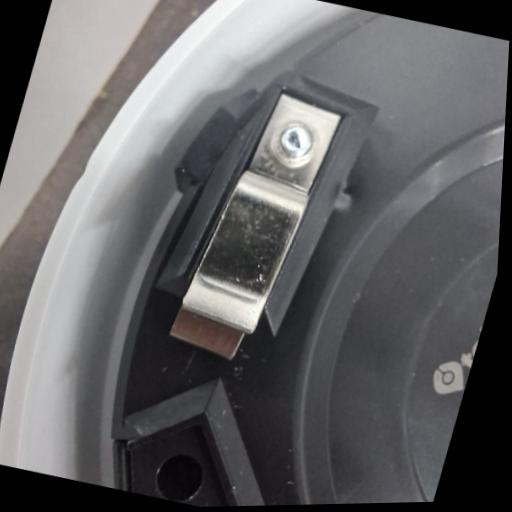yayli: (164, 78, 350, 370)
